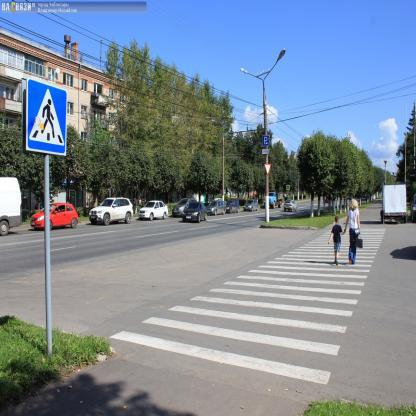road_sign: (26, 79, 67, 155), (261, 134, 270, 148)
